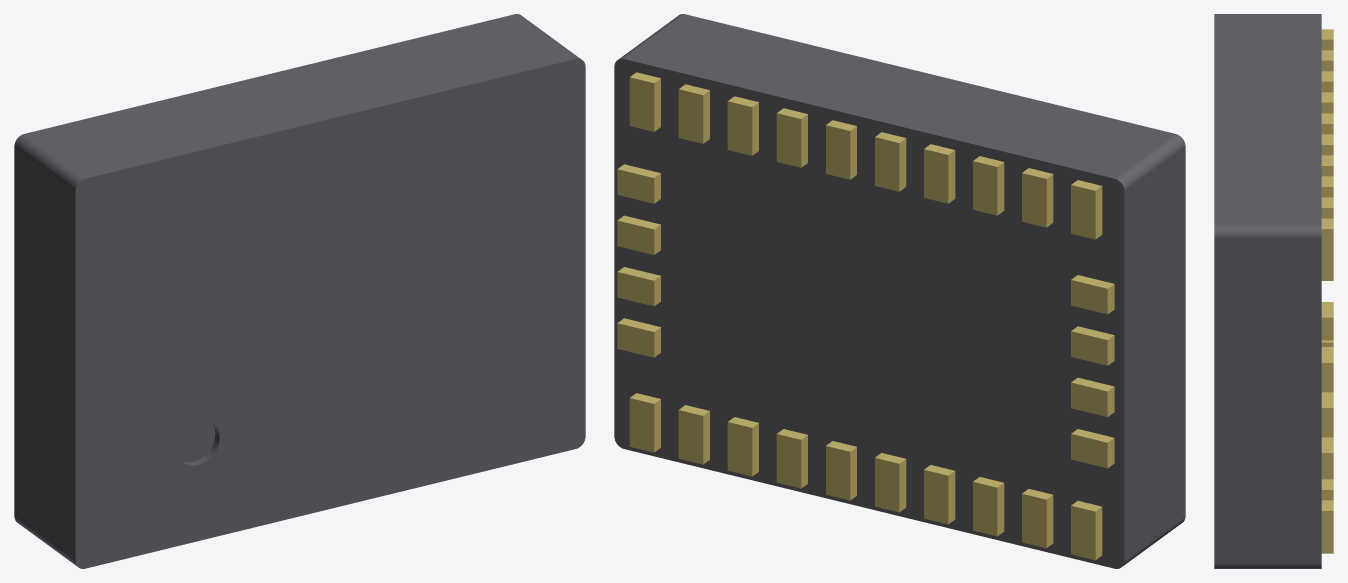
File: bno085.glb
3 views of the same model, side by side, from view 1: azimuth 30°, elevation 25°; view 2: azimuth 150°, elevation 25°; view 3: azimuth 270°, elevation 25° (orthographic). The views are drawn at different scales.
Parts seen in each view (by area): view 1: extra; view 2: extra, pins; view 3: extra, pins.
Part boxes in pixels (x1,y1,x2,y2): extra: [14, 14, 585, 568]; extra: [614, 14, 1185, 568]; pins: [617, 72, 1114, 560]; extra: [1214, 14, 1321, 568]; pins: [1321, 29, 1333, 553].
Bounding box in the file's own units: 5.2 × 3.8 × 1.2.
